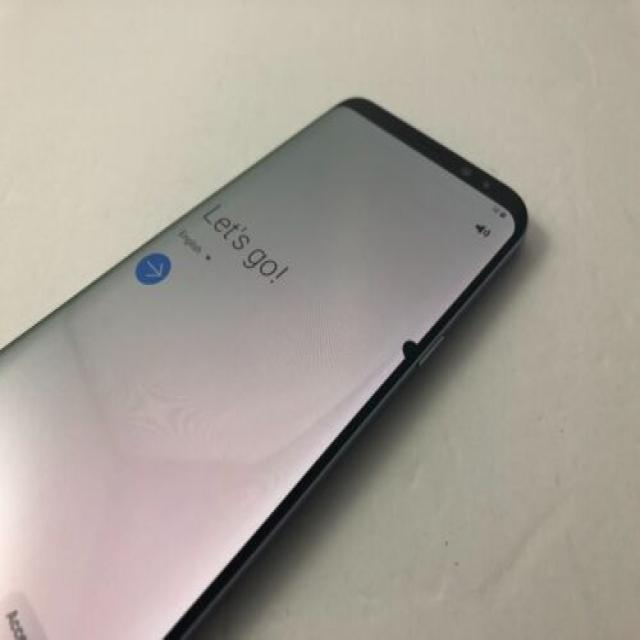dead pixel: (380, 314, 435, 379)
